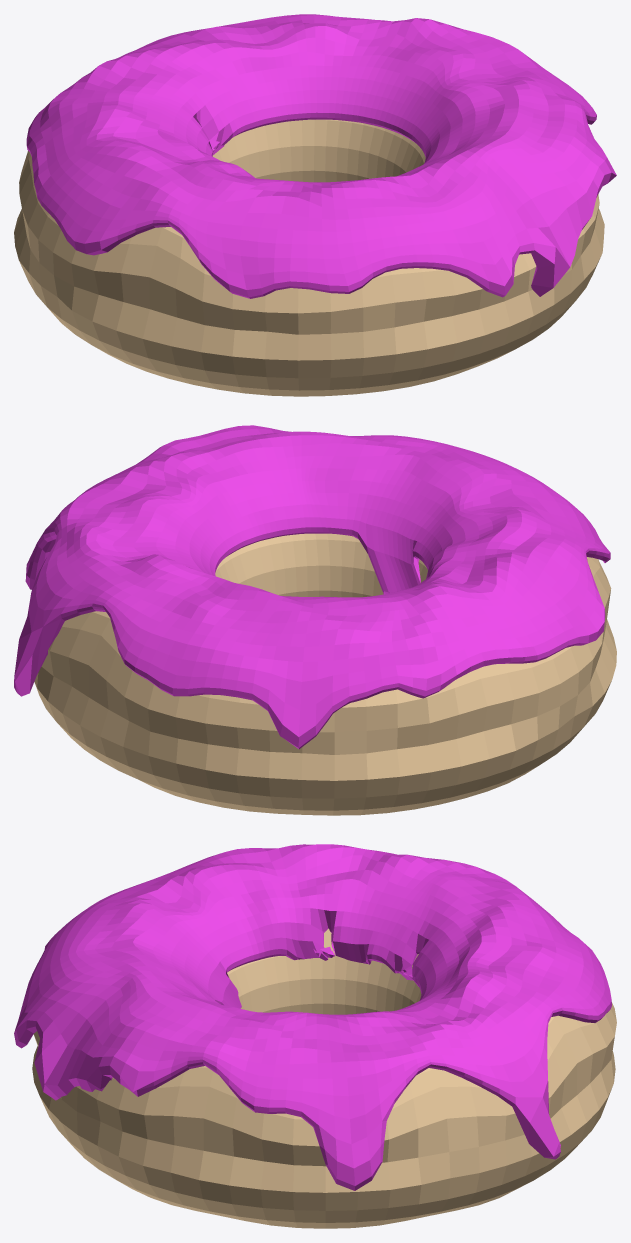
File: donut.glb
3 renders of one model, top to bottom at view 1: azimuth 30°, elevation 25°; view 2: azimuth 150°, elevation 25°; view 3: azimuth 270°, elevation 25°, orthographic.
Parts seen in each view (by area): view 1: icing, donut.002; view 2: icing, donut.002; view 3: icing, donut.002.
Boxes of the visible parts, x1,y1,x2,y2 form: icing: (26,14,616,298); donut.002: (14,119,604,396); icing: (14,425,610,749); donut.002: (34,533,616,815); icing: (14,844,611,1190); donut.002: (32,928,616,1228).
Size of what is drawn, in the model's own units: 0.1532 by 0.0559 by 0.1502.
